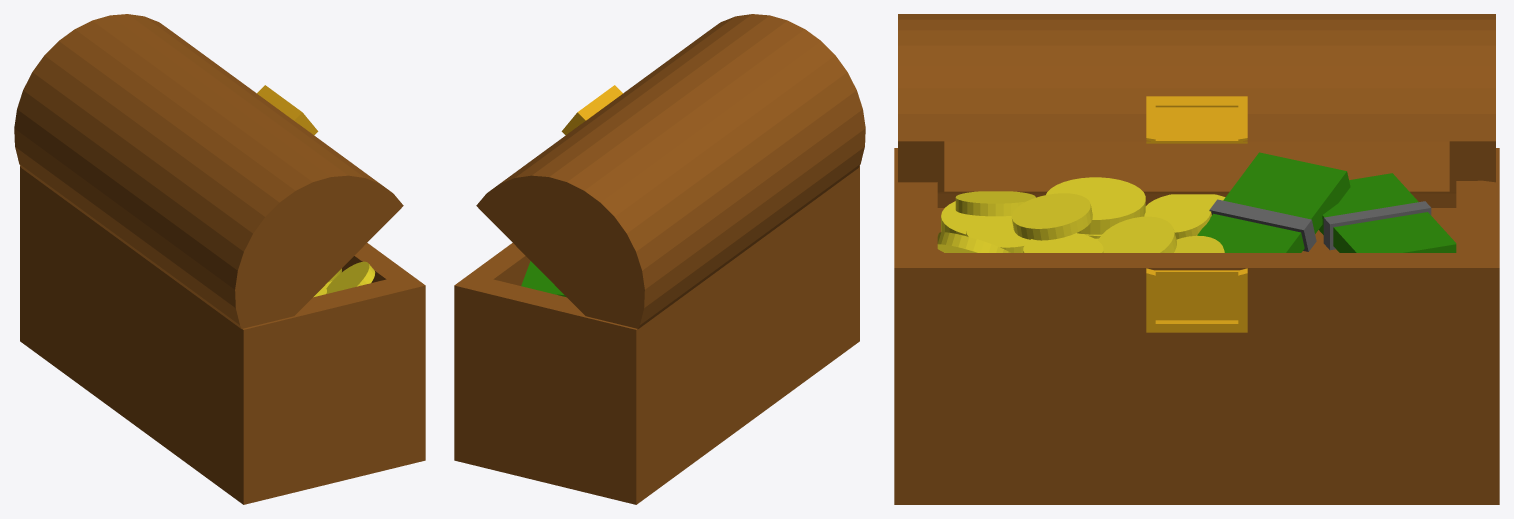
The model's file is openedChest.fbx.
3 views of the same model, side by side, from view 1: azimuth 30°, elevation 25°; view 2: azimuth 150°, elevation 25°; view 3: azimuth 270°, elevation 25° (orthographic). The views are drawn at different scales.
Visible parts, largest first — view 1: baseChest, couvercleChest, Cylinder.005, clef.001; view 2: baseChest, couvercleChest, clef.001, Cube.003; view 3: baseChest, couvercleChest, Cube, clef, Cube.003, clef.001, Cylinder.011, Cylinder.016, Cylinder.006, Cylinder.008, Cube.001, Cylinder.007 (+6 smaller).
Boxes of the visible parts, left/top/right/bottom form: baseChest: left=20, top=166, right=425, bottom=504; couvercleChest: left=14, top=14, right=403, bottom=329; Cylinder.005: left=326, top=261, right=375, bottom=293; clef.001: left=257, top=85, right=318, bottom=135; baseChest: left=454, top=166, right=859, bottom=504; couvercleChest: left=476, top=14, right=865, bottom=329; clef.001: left=561, top=85, right=622, bottom=135; Cube.003: left=521, top=261, right=566, bottom=297; baseChest: left=894, top=148, right=1499, bottom=504; couvercleChest: left=898, top=14, right=1495, bottom=193; Cube: left=1197, top=152, right=1350, bottom=252; clef: left=1146, top=268, right=1247, bottom=332; Cube.003: left=1319, top=173, right=1456, bottom=252; clef.001: left=1146, top=96, right=1247, bottom=143; Cylinder.011: left=1011, top=193, right=1092, bottom=240; Cylinder.016: left=1046, top=177, right=1145, bottom=234; Cylinder.006: left=1098, top=216, right=1176, bottom=252; Cylinder.008: left=1144, top=194, right=1211, bottom=239; Cube.001: left=1209, top=199, right=1316, bottom=251; Cylinder.007: left=955, top=191, right=1035, bottom=216.
Bounding box in the file's own units: 608 × 1197 × 901.
